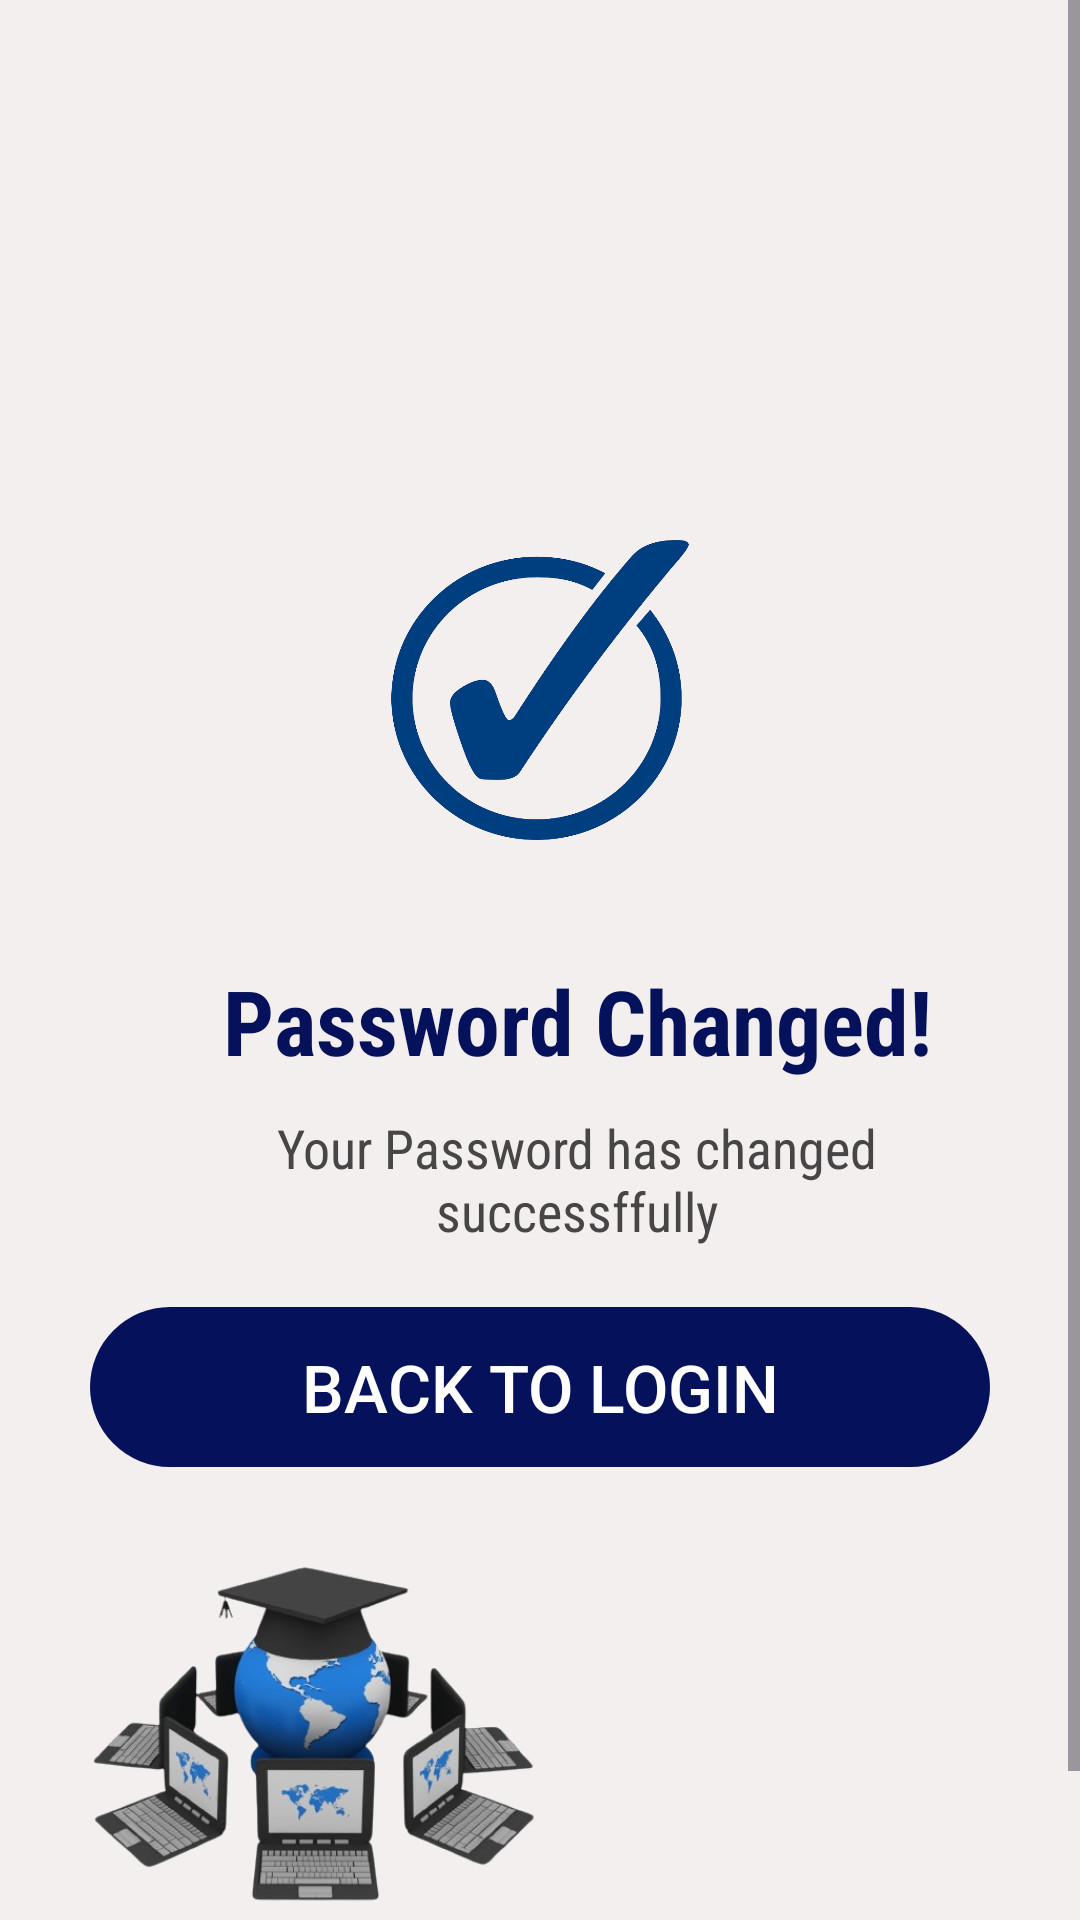

Where to tap for icons on this 1080x1920 app screen, as point (x, y):
check: point (540, 690)
